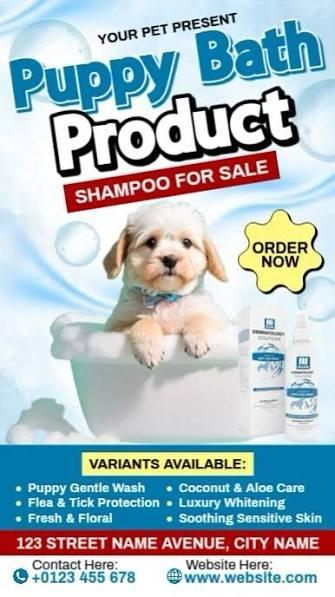puppy-dog: (101, 204, 230, 368)
